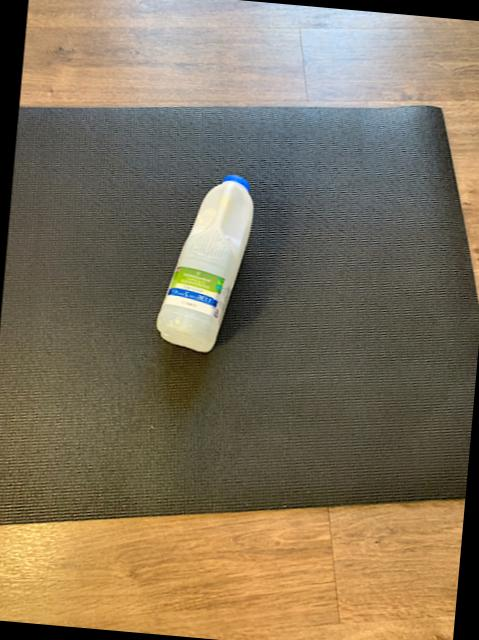plastic: (157, 173, 253, 349)
